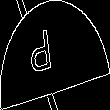P_S: (41, 26, 69, 84)
